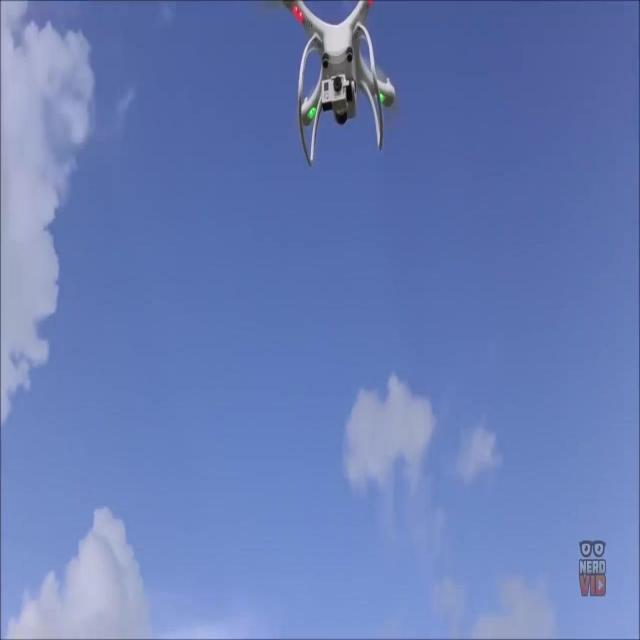UAV: (282, 0, 396, 167)
